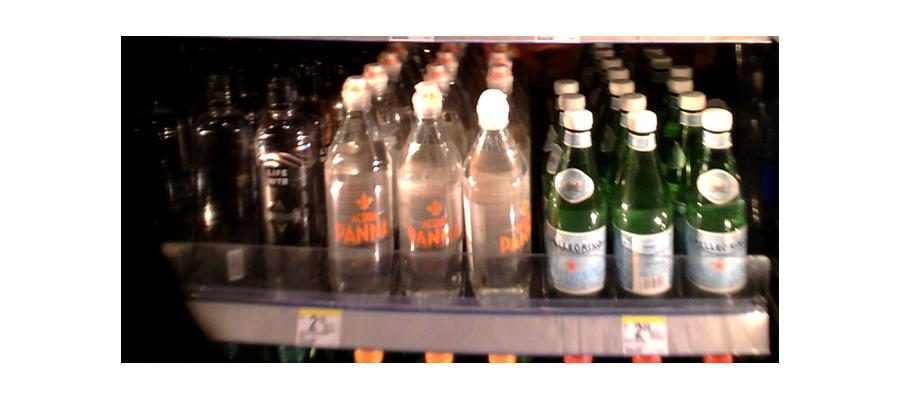bottle: (460, 94, 531, 307), (253, 82, 322, 295), (544, 98, 610, 304), (323, 94, 390, 295), (397, 92, 459, 300), (196, 71, 251, 286), (615, 109, 674, 307), (690, 105, 749, 300)
